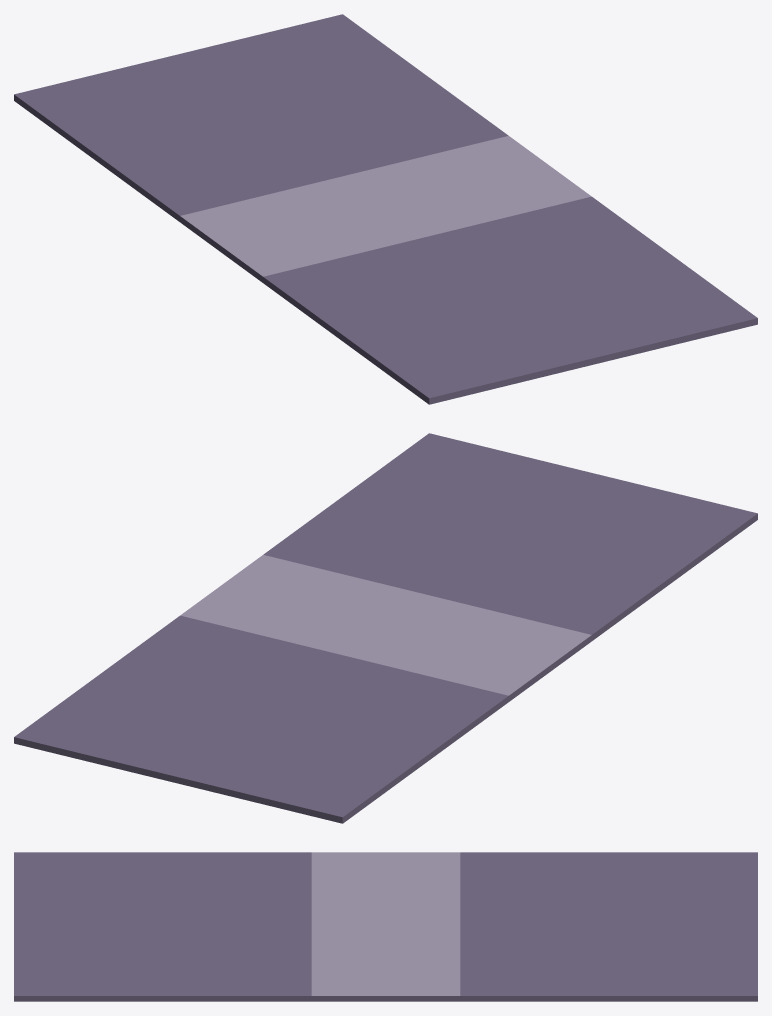
The model's file is IR_Floor64.glb.
3 renders of one model, top to bottom at view 1: azimuth 30°, elevation 25°; view 2: azimuth 150°, elevation 25°; view 3: azimuth 270°, elevation 25°, orthographic. The views are drawn at different scales.
Parts seen in each view (by area): view 1: IR_Floor64; view 2: IR_Floor64; view 3: IR_Floor64.
Part boxes in pixels (<box>): IR_Floor64: <box>14,14,757,404</box>; IR_Floor64: <box>14,433,757,823</box>; IR_Floor64: <box>14,852,757,1001</box>.
Size of the model in its own units: 64 by 1.2 by 140.
Materials: 1 (1 with a texture image).
